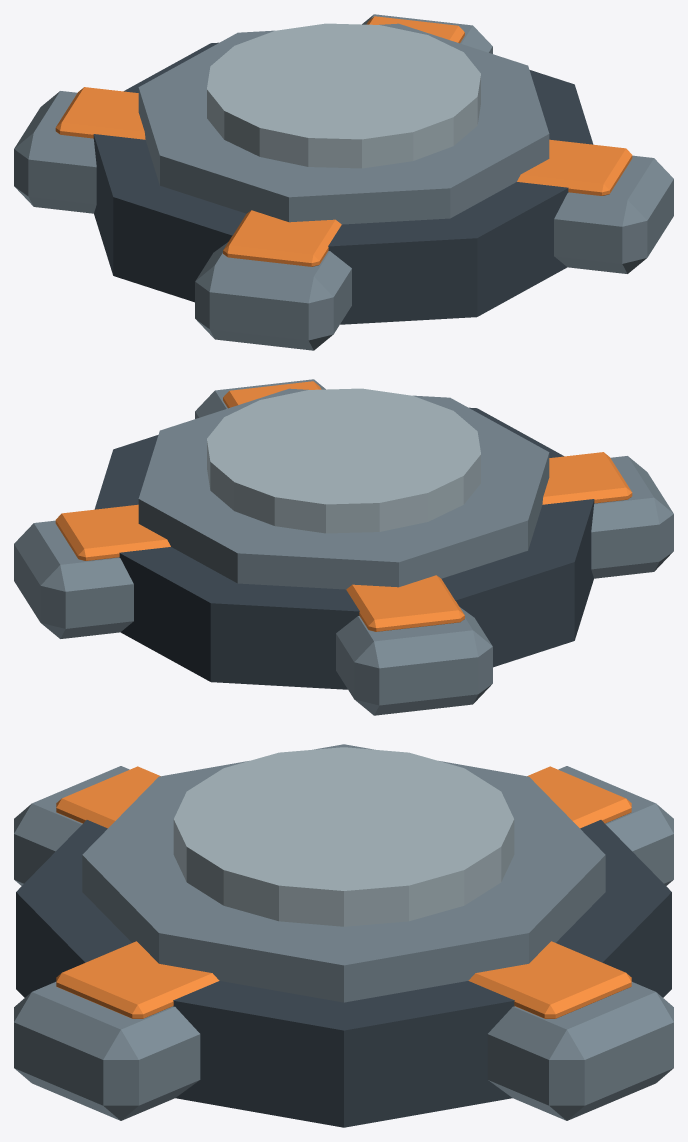
Rendered from TurretBase.obj.
The picture shows the model from 3 angles, top to bottom: view 1: azimuth 30°, elevation 25°; view 2: azimuth 150°, elevation 25°; view 3: azimuth 270°, elevation 25°; orthographic projection. The views are drawn at different scales.
Parts seen in each view (by area): view 1: TurretBase; view 2: TurretBase; view 3: TurretBase.
Part boxes in pixels (left/top/right/bottom): TurretBase: left=14, top=14, right=673, bottom=350; TurretBase: left=14, top=379, right=673, bottom=715; TurretBase: left=14, top=744, right=673, bottom=1127.
Size of the model in its own units: 2.09 by 0.595 by 2.09.
Materials: 4 (4 with a texture image).
